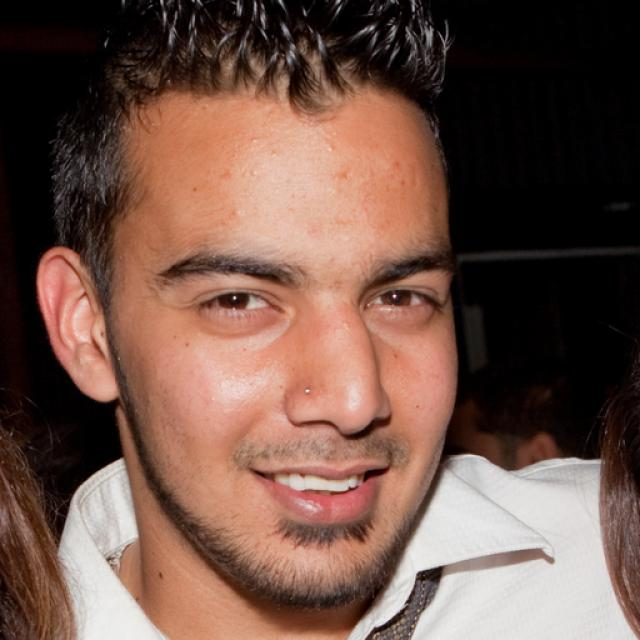Acne: (221, 204, 247, 223), (237, 165, 260, 184), (317, 142, 342, 159), (264, 142, 285, 162), (244, 134, 260, 148)
